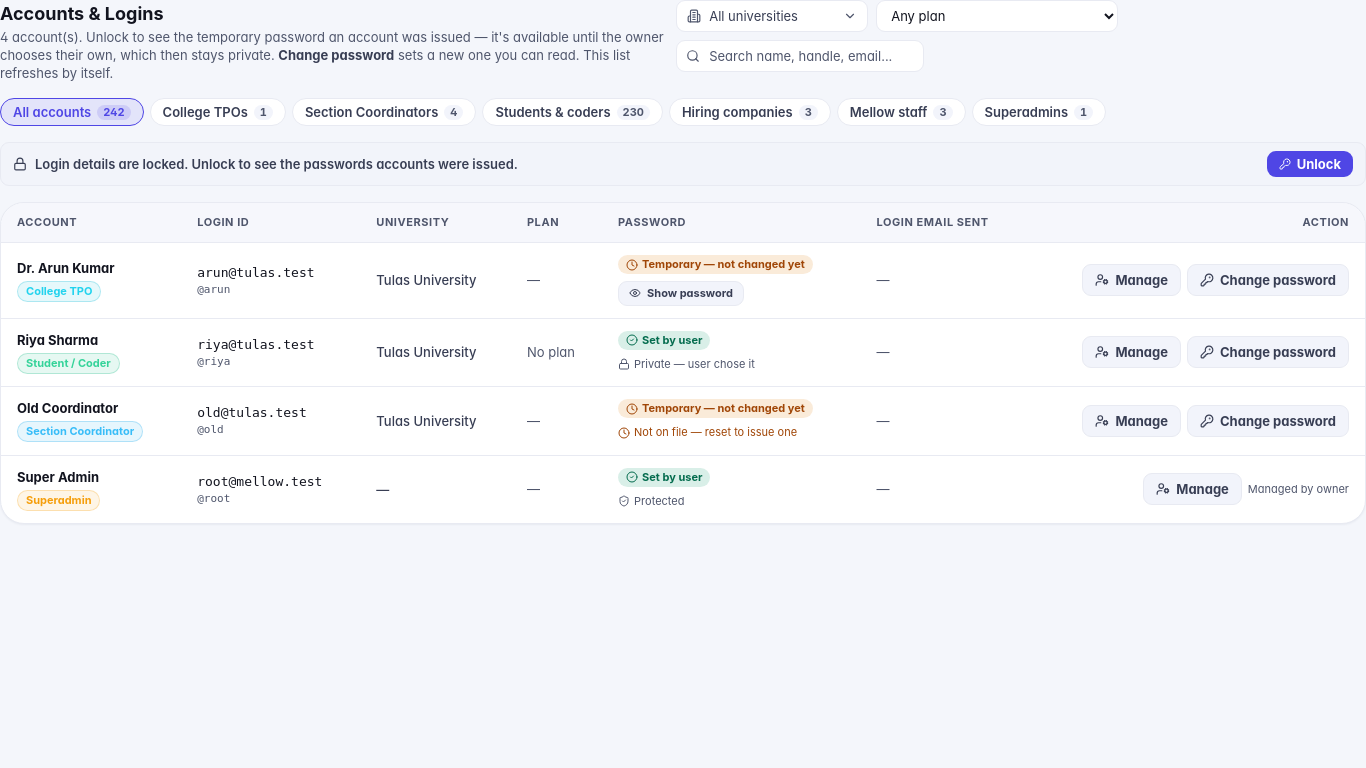
Scenario: issued logins › asks for the superadmin's password, then shows the issued password and nothing else
Expected: the text "Dr. Arun Kumar" is shown, [17,260,114,276]
Click the button with aria-label "show dr. arun kumar's password" at point(681, 293), box [618,280,744,306]
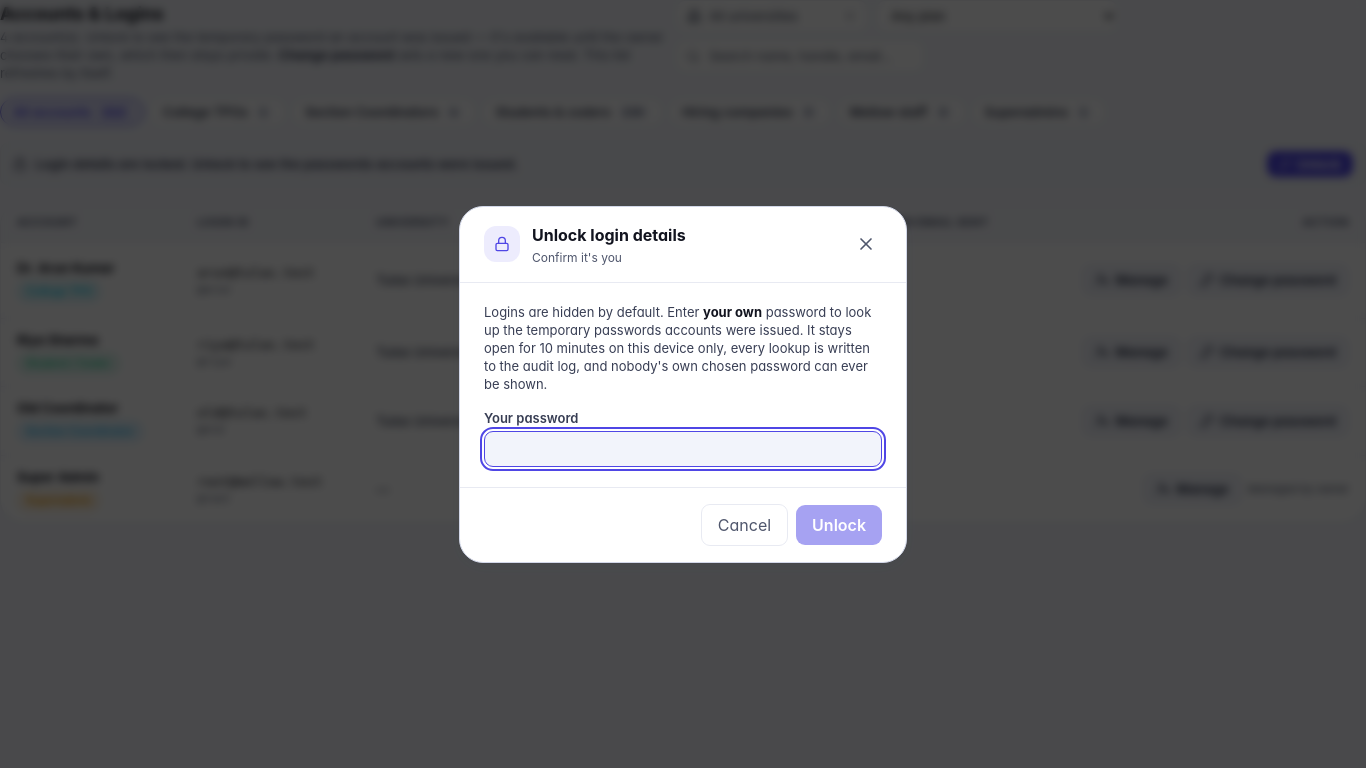
Type "my-own-password" into the password field labelled "Your password" at point(683, 448), box [484,430,882,466]
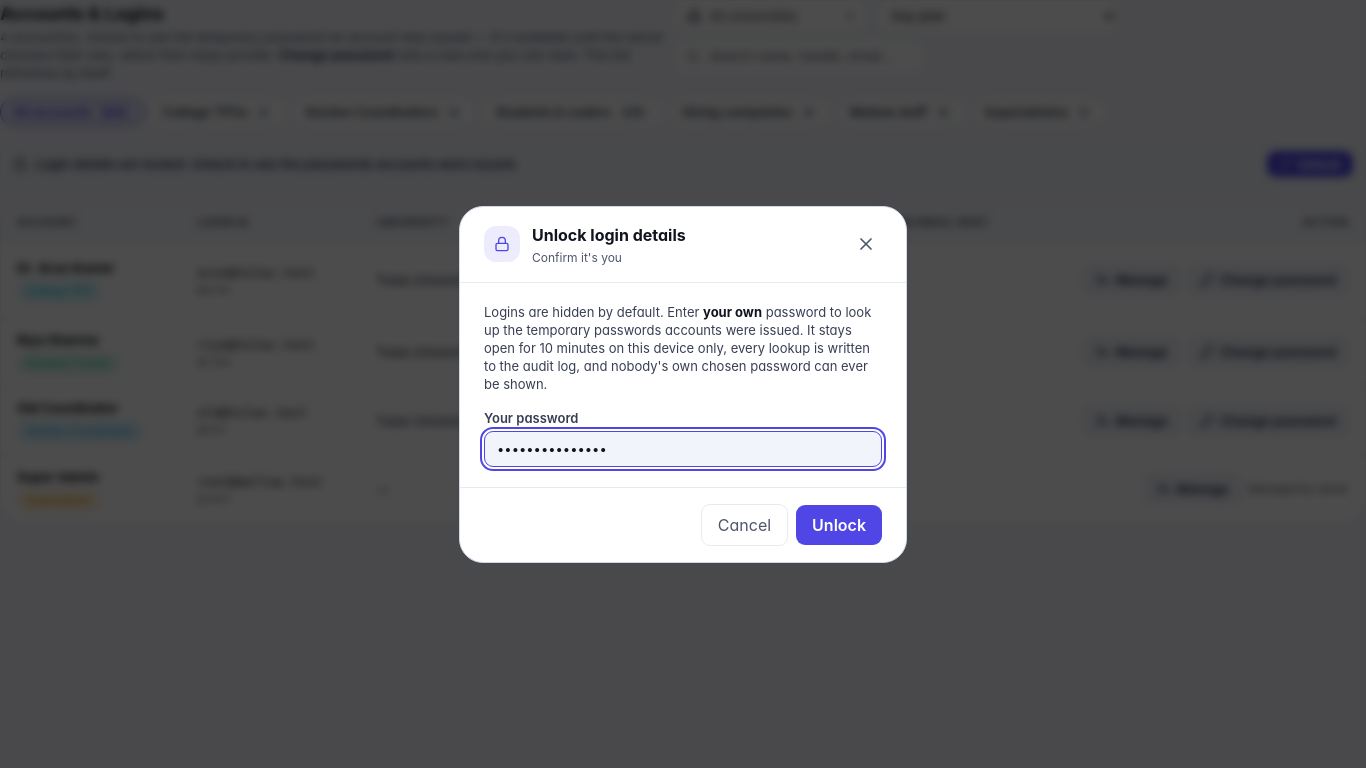
Click the button "Unlock" at point(839, 524), box [796,504,882,544]
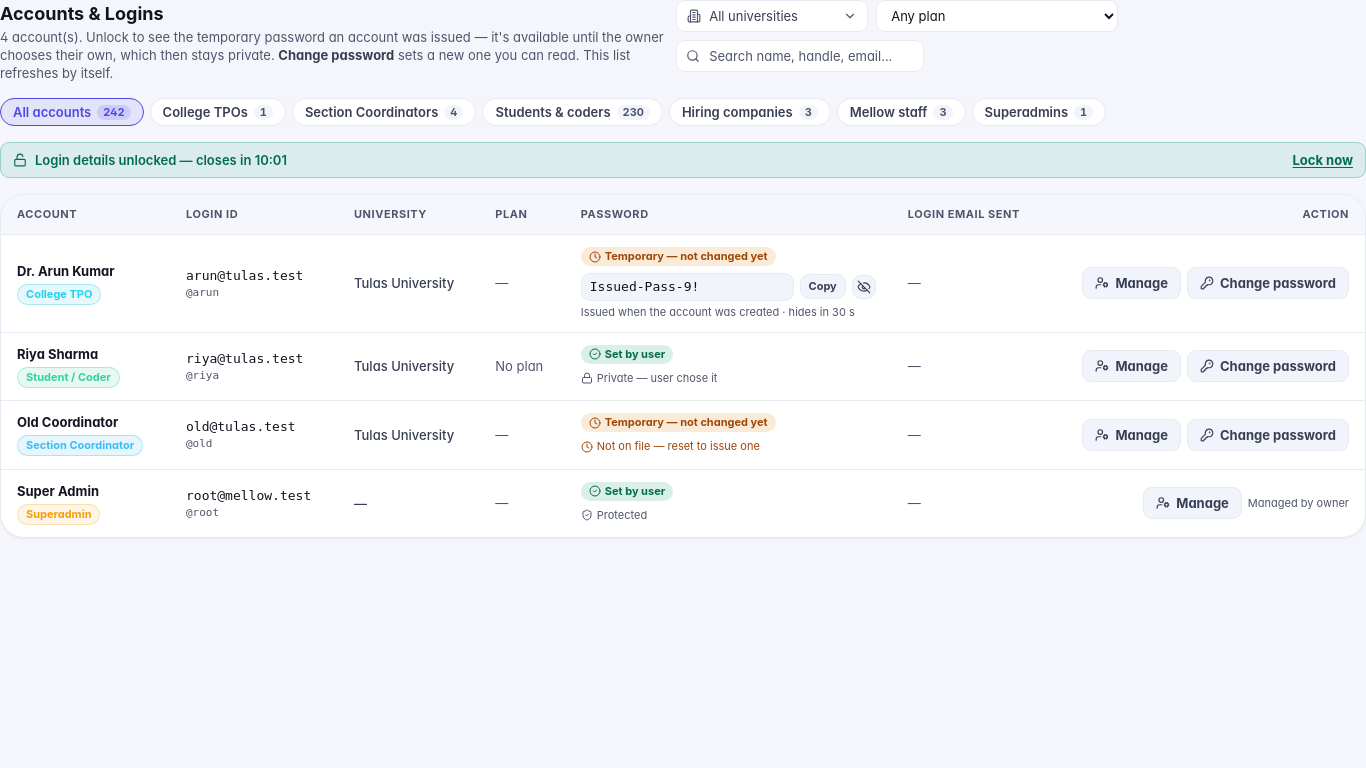
Expected: the text with test id "revealed-password-2" reads "Issued-Pass-9!", [590,278,699,294]
Expected: the text "Login details unlocked — closes in 10:01" is shown, [13,151,287,169]
